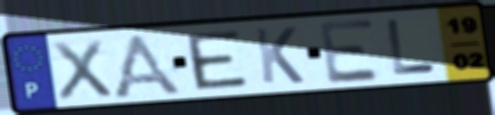A: (107, 31, 187, 98)
E: (315, 16, 384, 86), (182, 28, 252, 92)
K: (251, 25, 307, 86)
L: (384, 18, 439, 77)
X: (49, 37, 116, 103)
